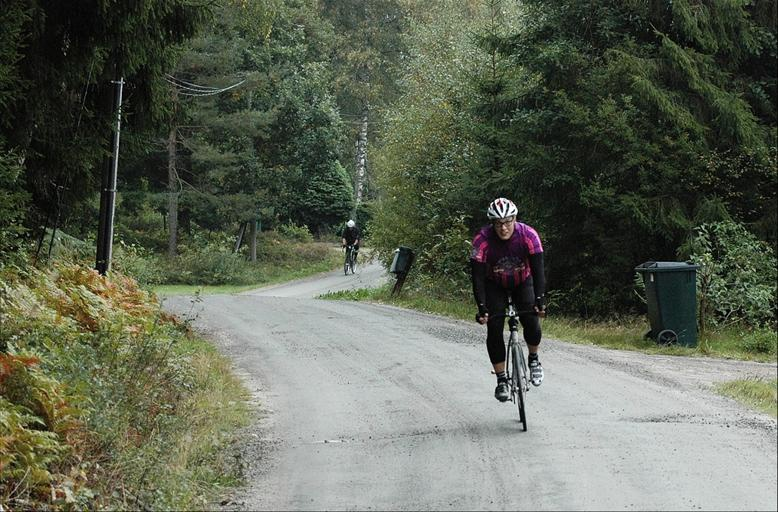non-vehicle: (479, 296, 542, 431), (340, 244, 357, 274)
